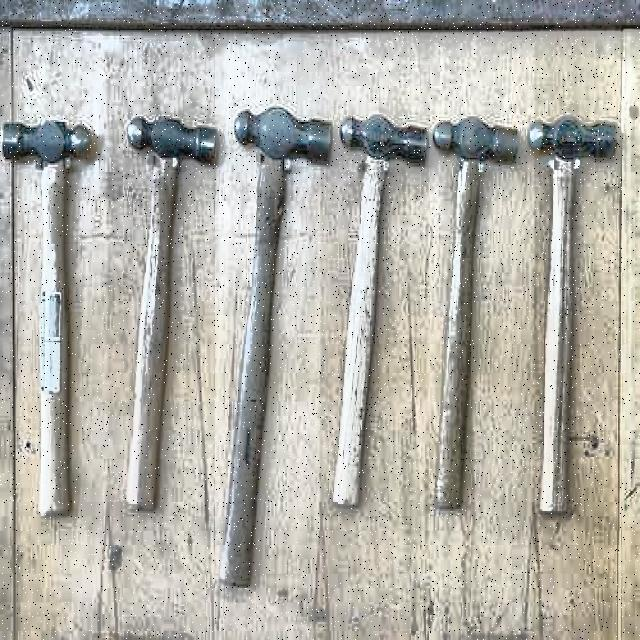hammer: (222, 109, 333, 579), (123, 109, 219, 516), (334, 113, 430, 511), (0, 118, 92, 514), (433, 113, 521, 513), (530, 114, 618, 514)
